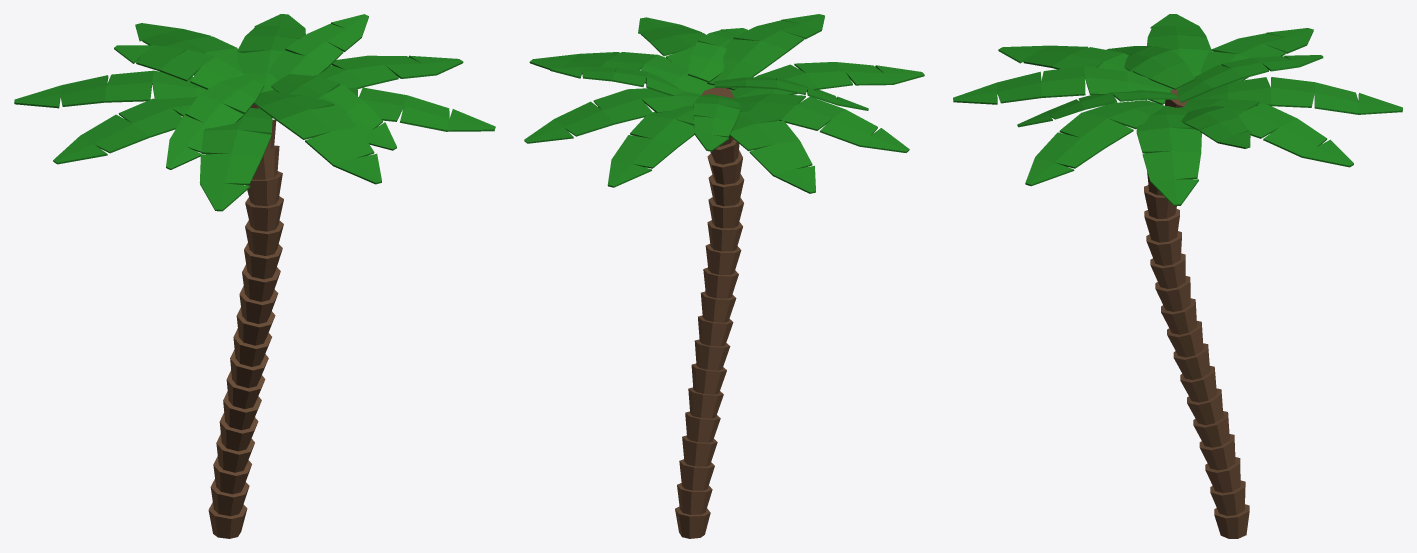
The model's file is Boom_1_1.fbx.
3 views of the same model, side by side, from view 1: azimuth 30°, elevation 25°; view 2: azimuth 150°, elevation 25°; view 3: azimuth 270°, elevation 25° (orthographic). The views are drawn at different scales.
Parts seen in each view (by area): view 1: Plane.012, Cube; view 2: Plane.012, Cube; view 3: Plane.012, Cube.
Boxes of the visible parts, left/top/right/bottom form: Plane.012: left=14, top=14, right=495, bottom=211; Cube: left=208, top=104, right=283, bottom=538; Plane.012: left=524, top=14, right=924, bottom=193; Cube: left=675, top=87, right=744, bottom=538; Plane.012: left=953, top=14, right=1402, bottom=205; Cube: left=1144, top=89, right=1249, bottom=538.
Bounding box in the file's own units: 1247 × 1399 × 1244.
2 materials, 2 textured.
